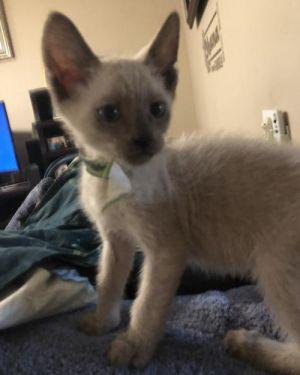siamese: (31, 1, 200, 185)
